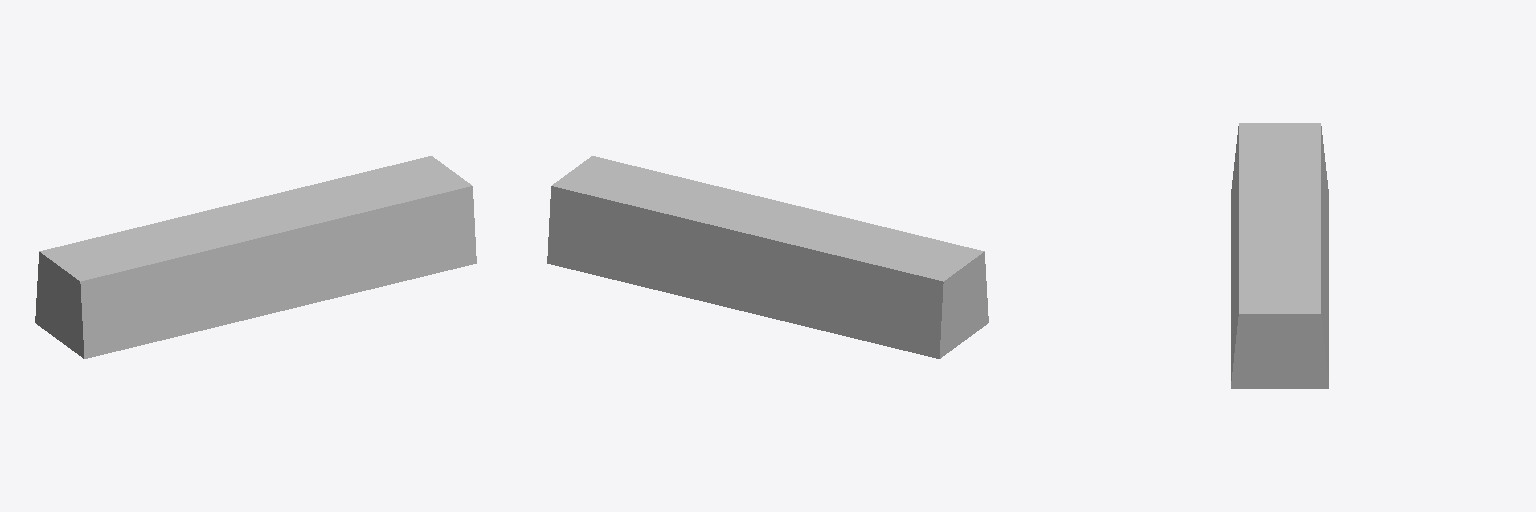
Rendered from stonewall.obj.
3 views of the same model, side by side, from view 1: azimuth 30°, elevation 25°; view 2: azimuth 150°, elevation 25°; view 3: azimuth 270°, elevation 25° (orthographic).
Parts seen in each view (by area): view 1: Cube; view 2: Cube; view 3: Cube.
Part boxes in pixels (x1,y1,x2,y2): Cube: (35, 156, 476, 358); Cube: (547, 156, 988, 358); Cube: (1231, 123, 1328, 388).
Size of the model in its own units: 11 by 2 by 2.4.